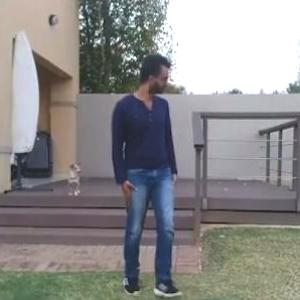follow: (110, 39, 201, 269)
